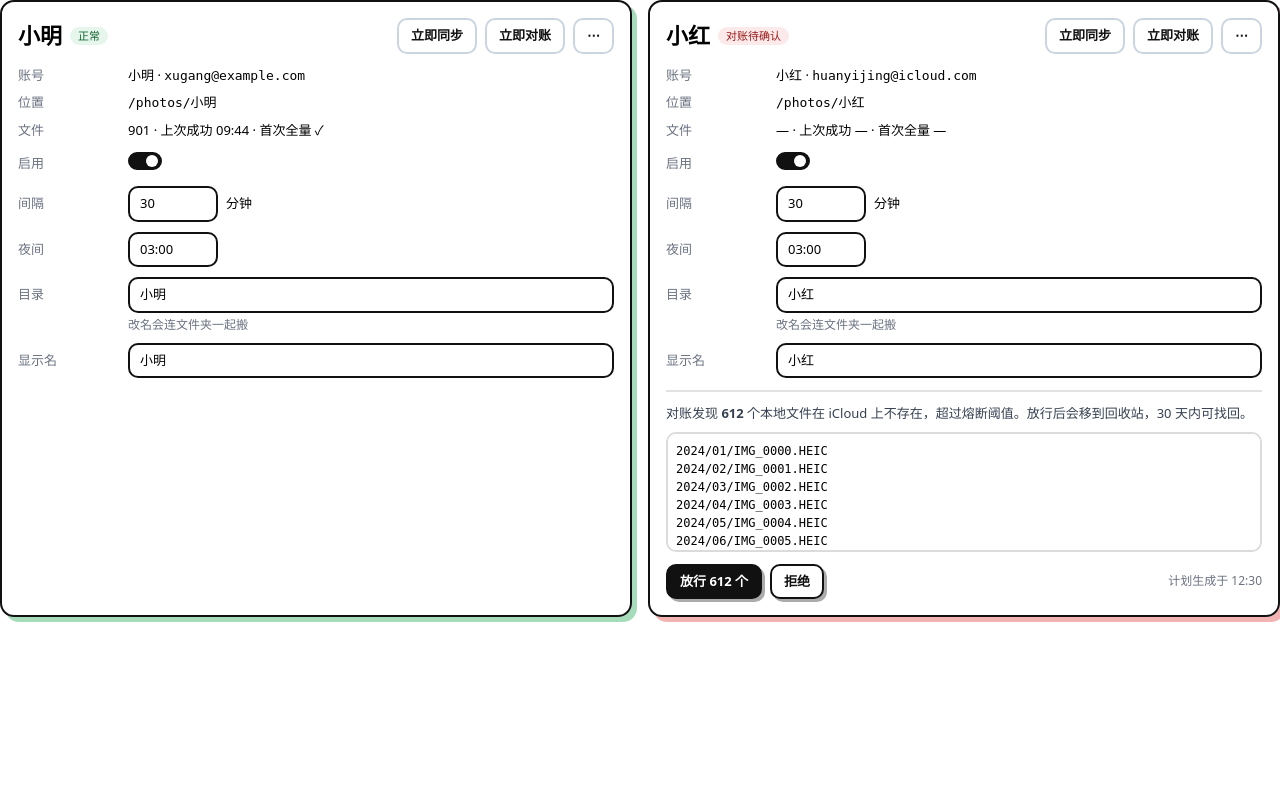
Scenario: LibraryCard › a rejected sync shows the detail under the actions
What coordinates should you click on to do the following:
click the button "立即对账" in the row of "正常"
I would click on:
 (525, 36)
Its box is [485, 18, 565, 54].
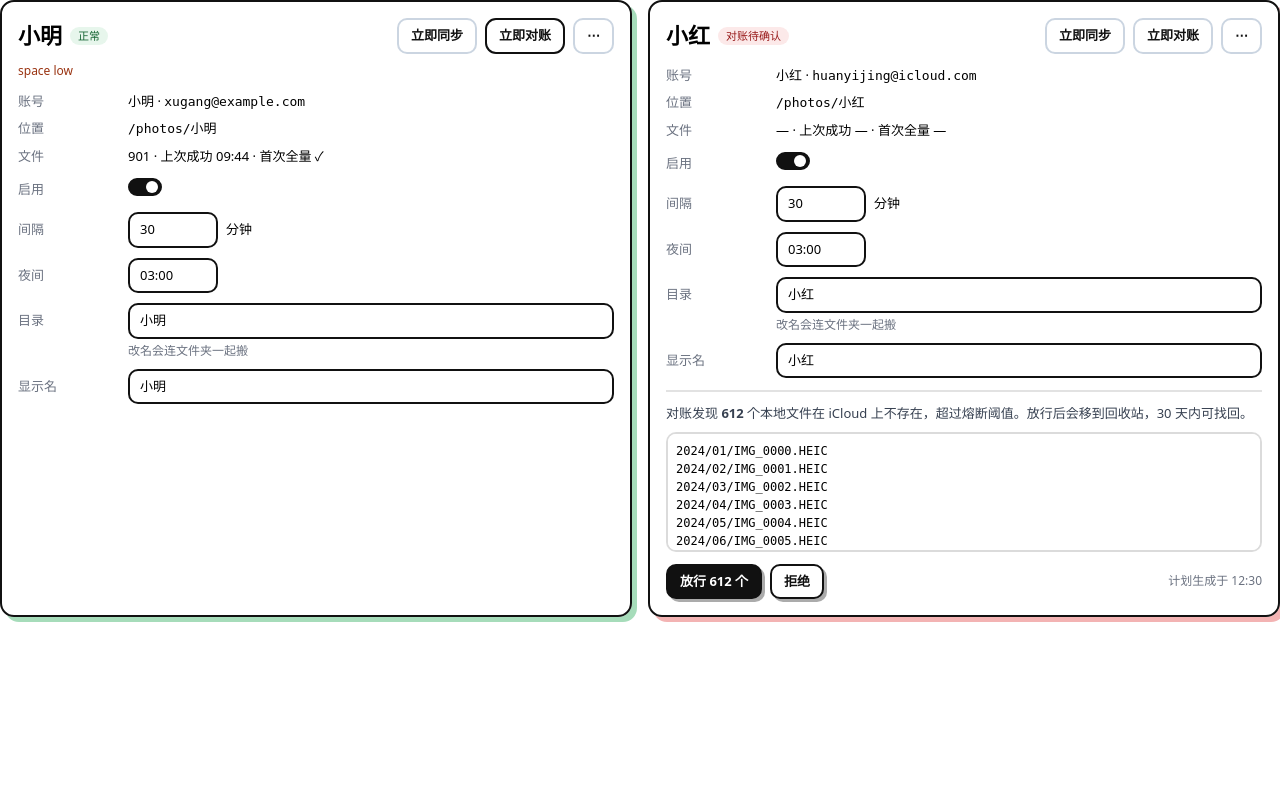
Check: the text "space low" is shown, box [18, 62, 73, 78]
